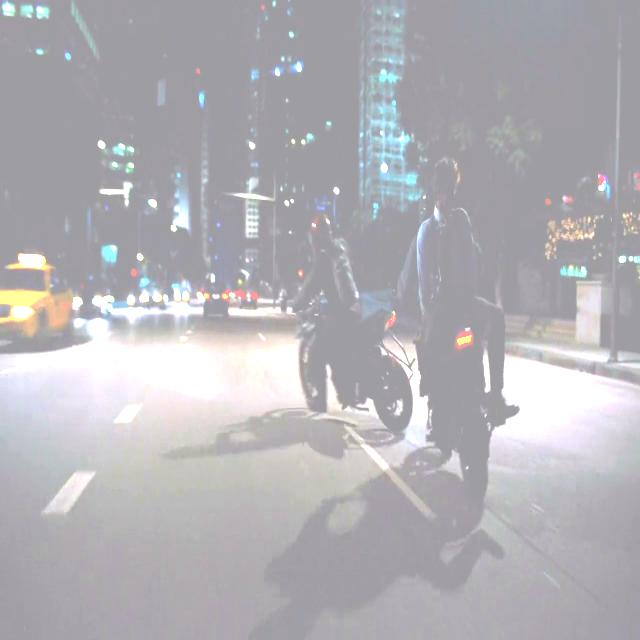Motorbike: (409, 201, 509, 524), (294, 248, 413, 431)
